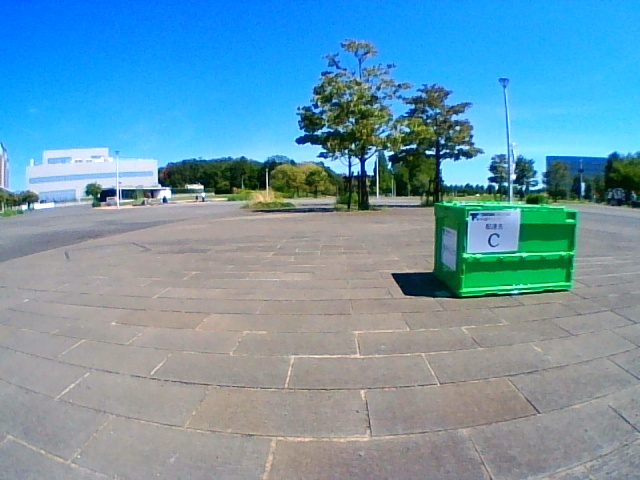green_box: (434, 202, 579, 296)
tag_c: (469, 212, 519, 251)
